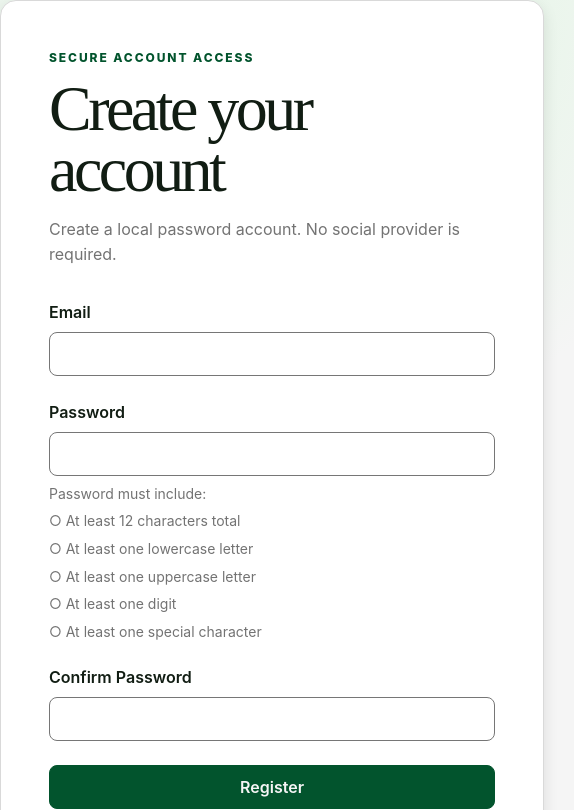
it: AuthForm › shows only the generic accepted registration outcome
Type "a@example.com" into the field labelled "Email" at (272, 354), box [49, 332, 495, 376]
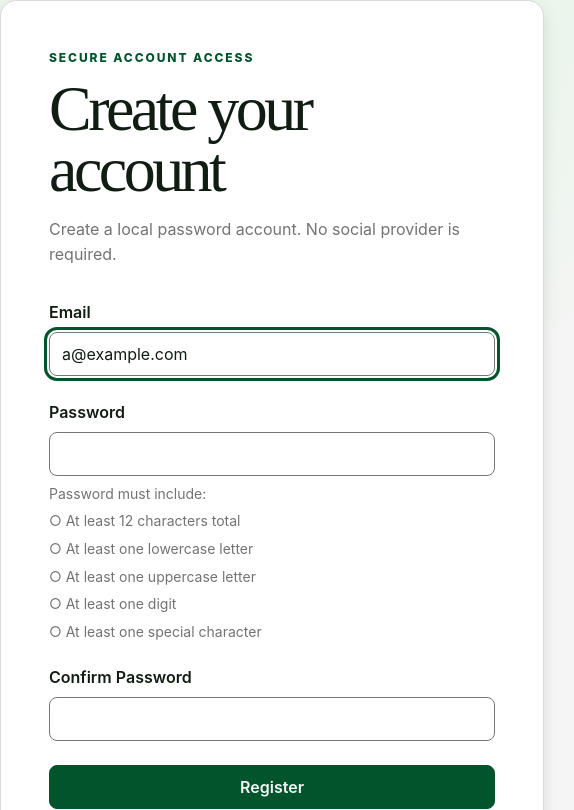
Type "Abcdefghi1!x" into the password field labelled "Password" at (272, 454), box [49, 432, 495, 476]
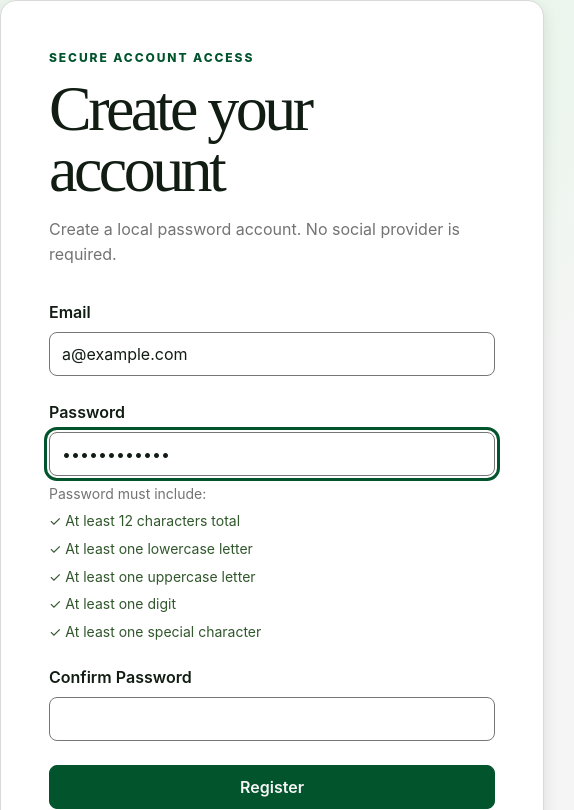
Type "Abcdefghi1!x" into the password field labelled "Confirm Password" at (272, 719), box [49, 697, 495, 741]
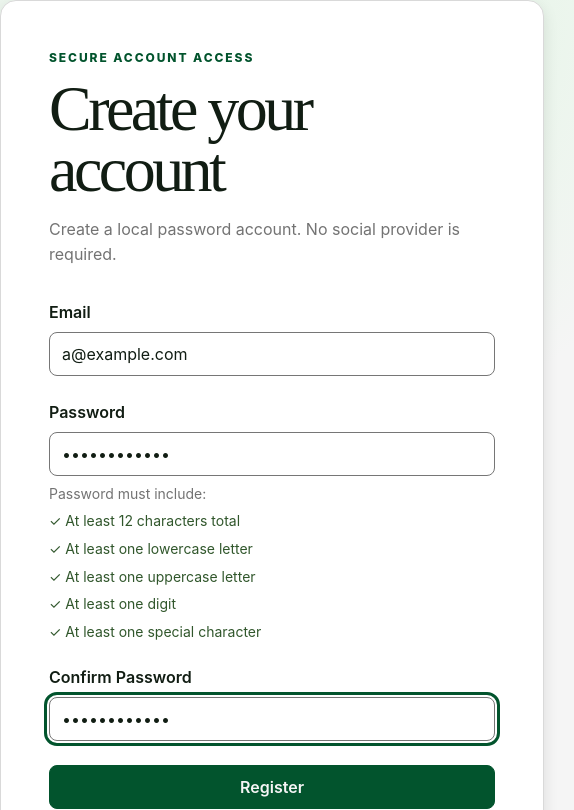
Click the button "Register" at (272, 787), box [49, 765, 495, 809]
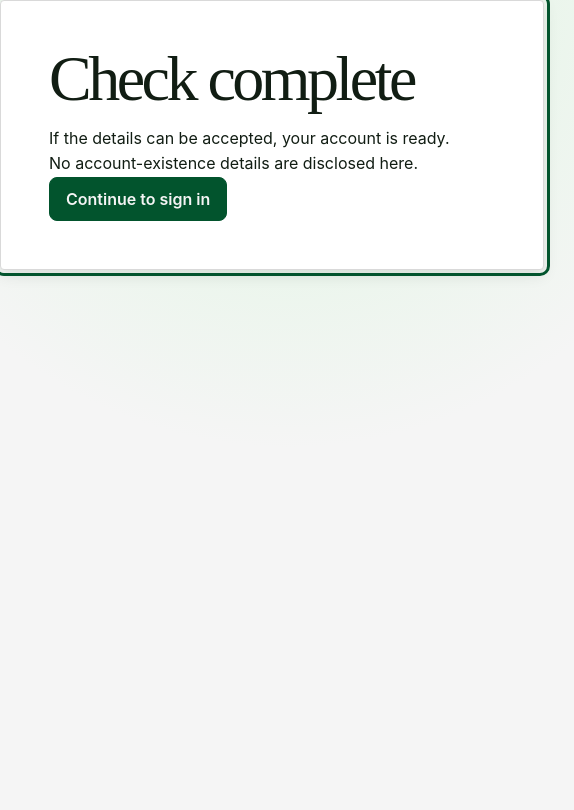
Result: the message shows "If the details can be accepted, your account is ready." at [49, 128, 450, 148]
